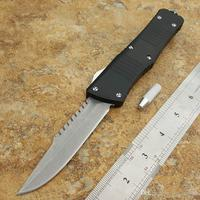knife: (14, 6, 184, 197)
